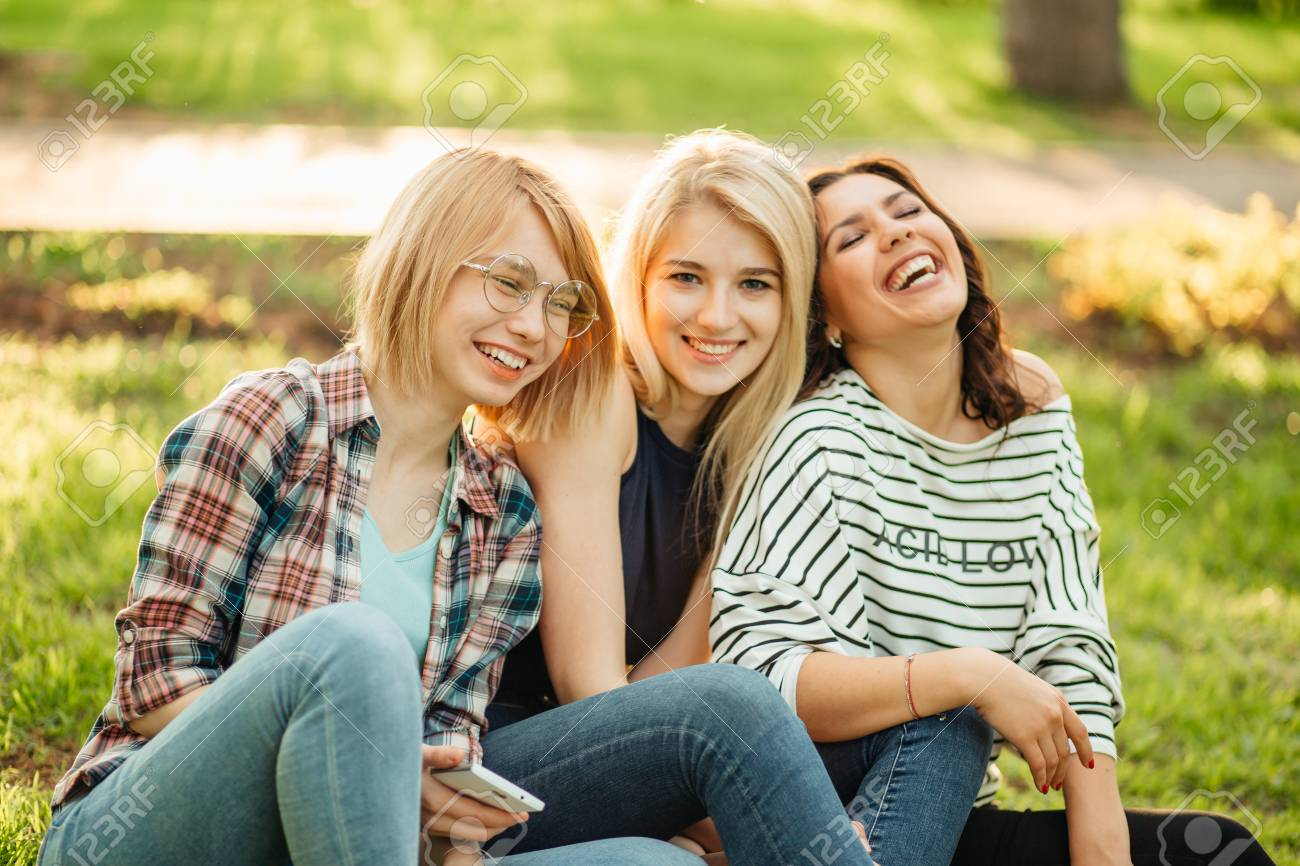bare: (837, 234, 974, 331), (646, 301, 780, 399), (445, 310, 564, 410)
